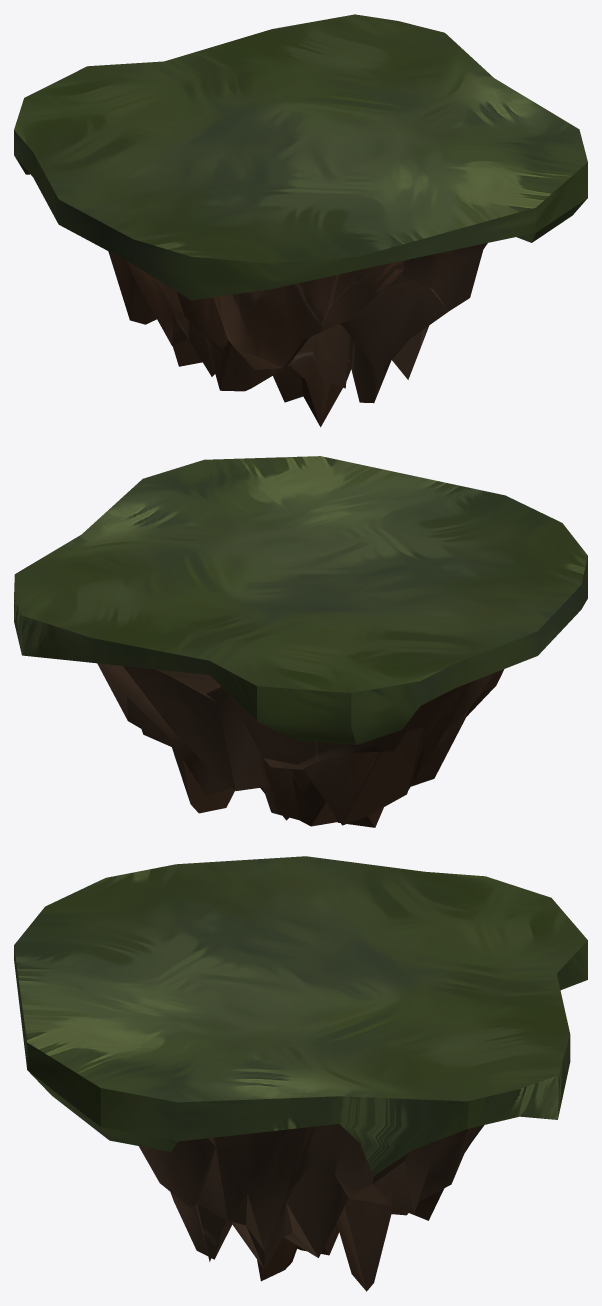
Rendered from wyspa_duza_okragla.obj.
The picture shows the model from 3 angles, top to bottom: view 1: azimuth 30°, elevation 25°; view 2: azimuth 150°, elevation 25°; view 3: azimuth 270°, elevation 25°; orthographic projection. The views are drawn at different scales.
Parts seen in each view (by area): view 1: Landscape; view 2: Landscape; view 3: Landscape.
Part boxes in pixels (bbox=[...]): Landscape: bbox=[14, 14, 587, 427]; Landscape: bbox=[14, 456, 587, 827]; Landscape: bbox=[14, 856, 587, 1291].
Bounding box in the file's own units: 27.51 × 15.46 × 27.11.
2 materials, 2 textured.
